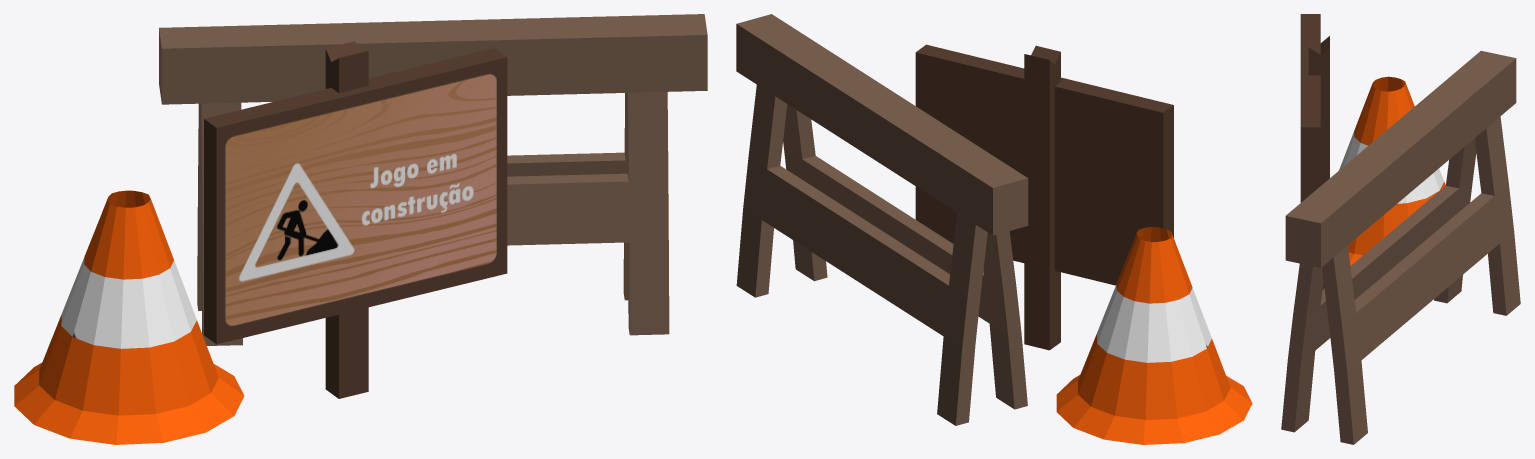
The model's file is em_obras.fbx.
3 renders of one model, left to right at view 1: azimuth 30°, elevation 25°; view 2: azimuth 150°, elevation 25°; view 3: azimuth 270°, elevation 25°, orthographic. The views are drawn at different scales.
Visible parts, largest first — view 1: Cone; view 2: Cone; view 3: Cone.
Boxes of the visible parts, box(x1,y1,x2,y2) form: Cone: box(14, 14, 707, 444); Cone: box(736, 14, 1252, 444); Cone: box(1281, 14, 1520, 444).
Bounding box in the file's own units: 612 × 315 × 251.
Materials: 1 (1 with a texture image).
